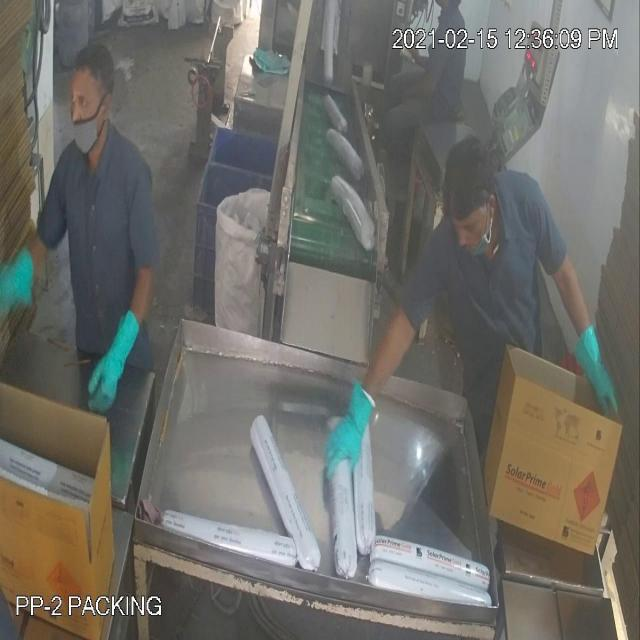Gloves: (62, 122, 591, 424)
